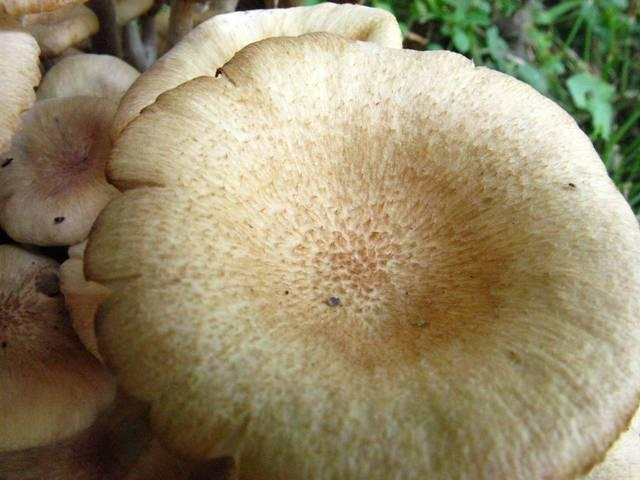edible_mushroom: (77, 30, 639, 479)
